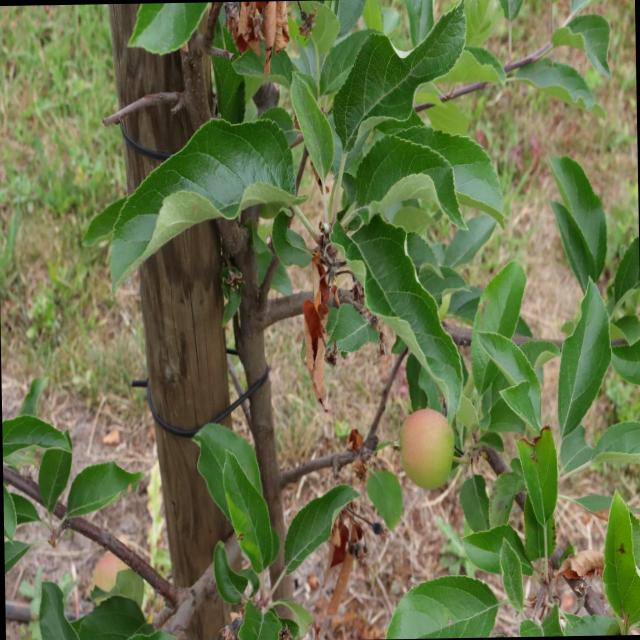-FireBlight-: (300, 238, 336, 420), (228, 0, 306, 54), (320, 504, 360, 602), (559, 552, 609, 580), (342, 438, 362, 470)
